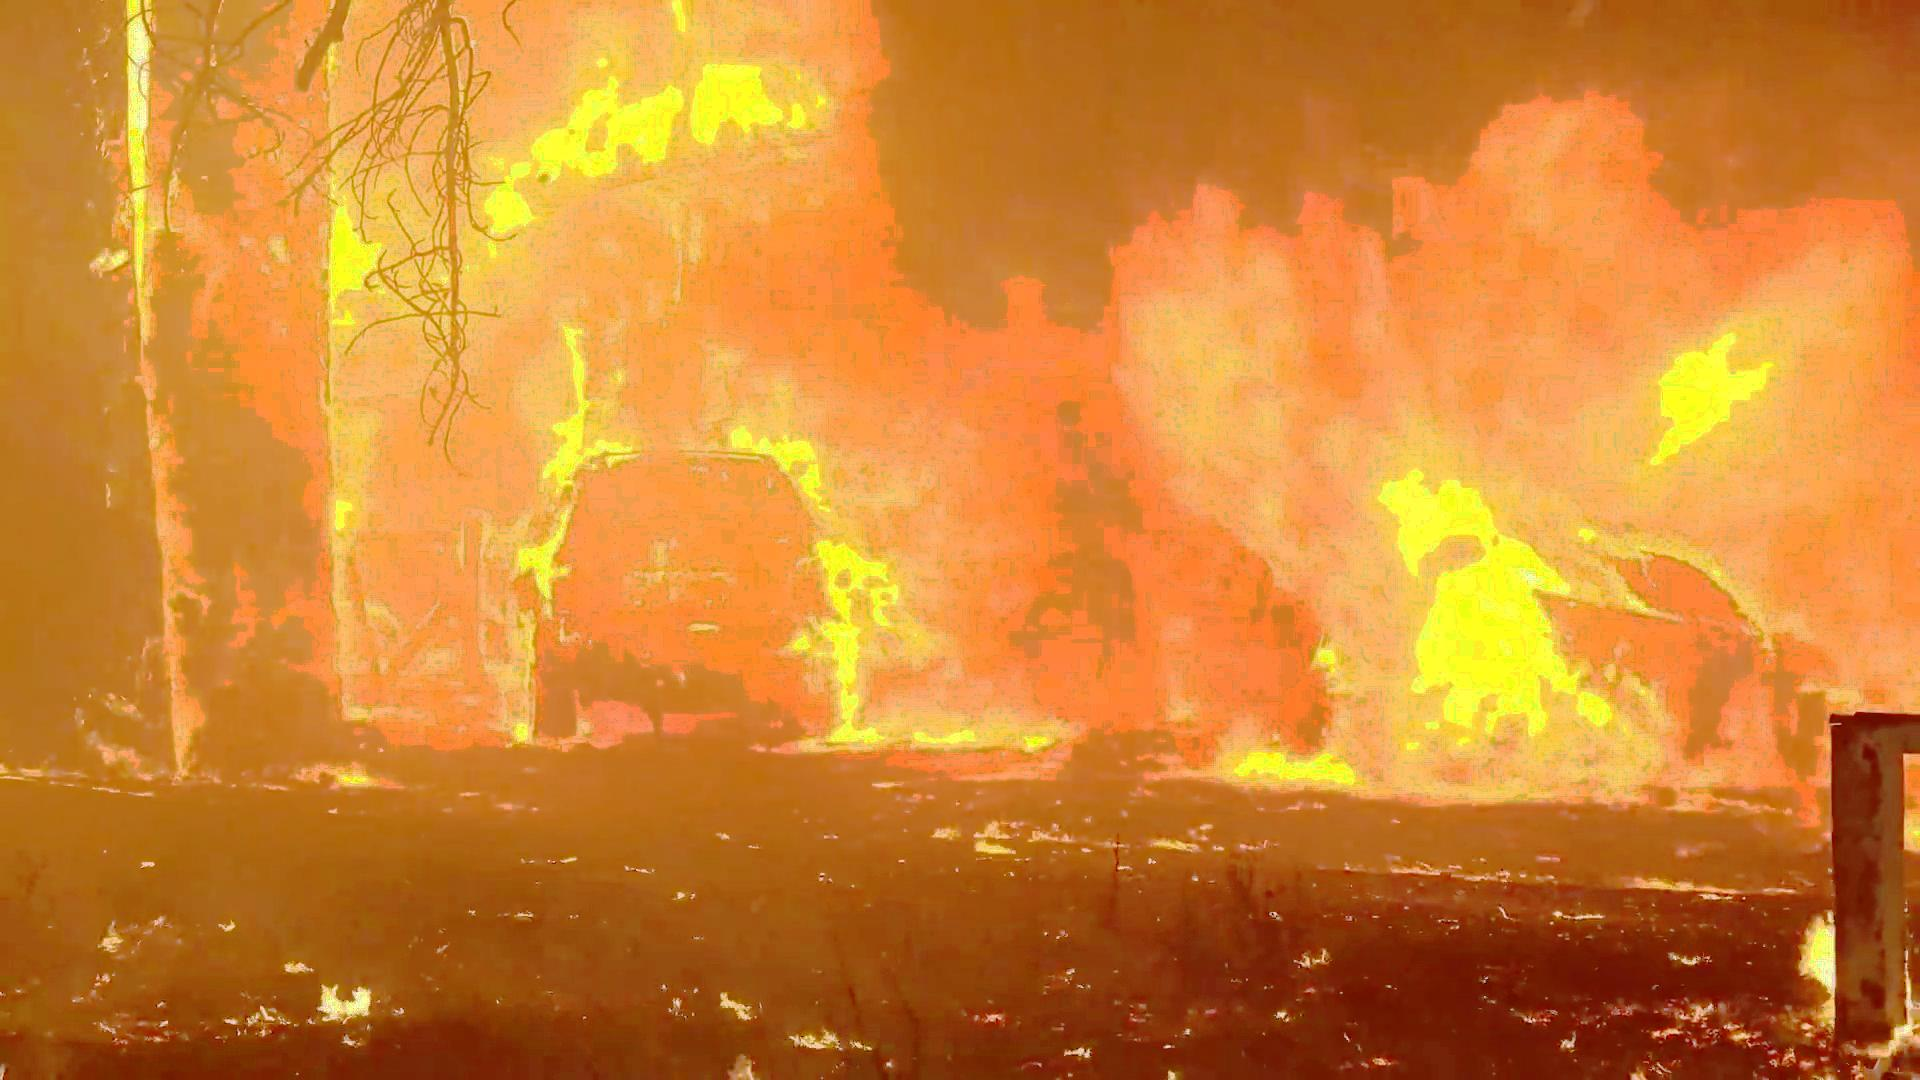fire: (335, 44, 823, 335), (725, 368, 967, 727), (1323, 454, 1582, 765), (446, 338, 621, 723)
